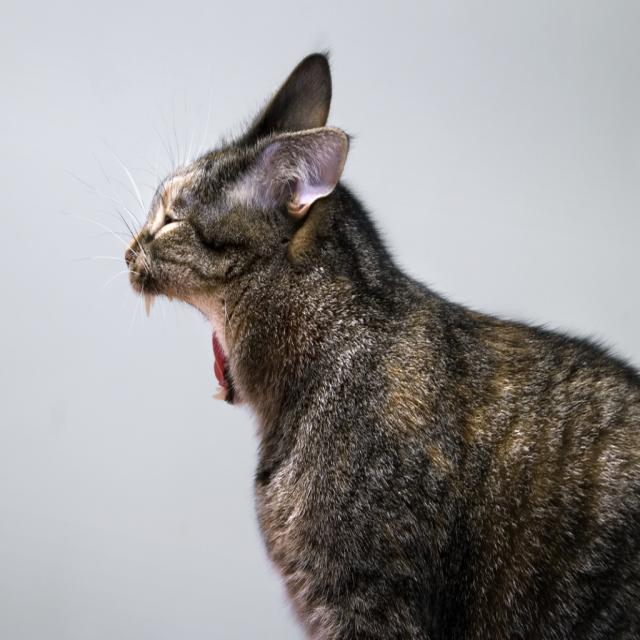Cat: (55, 39, 639, 638)
